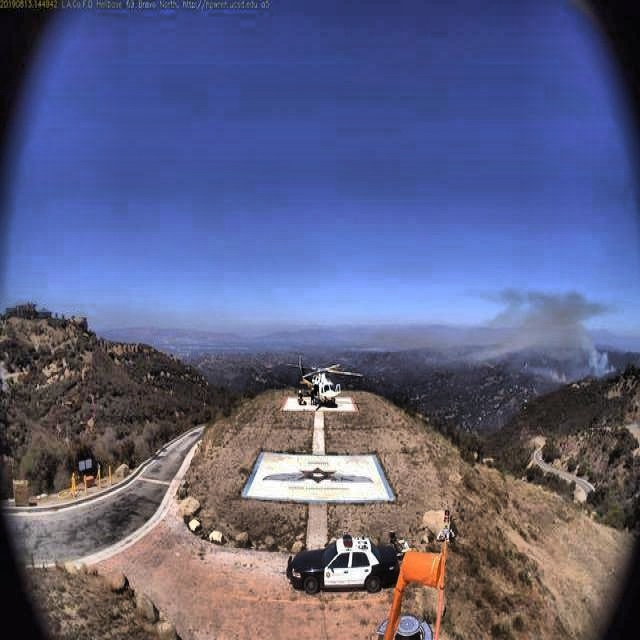smoke: (447, 281, 618, 376)
